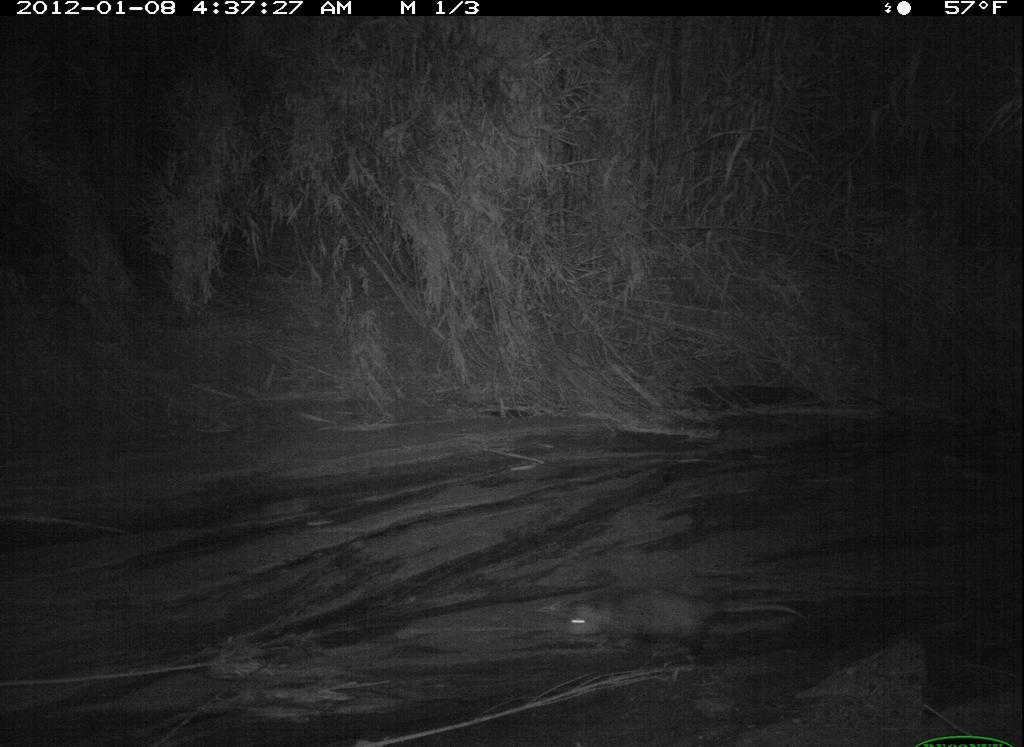opossum: (555, 578, 820, 670)
